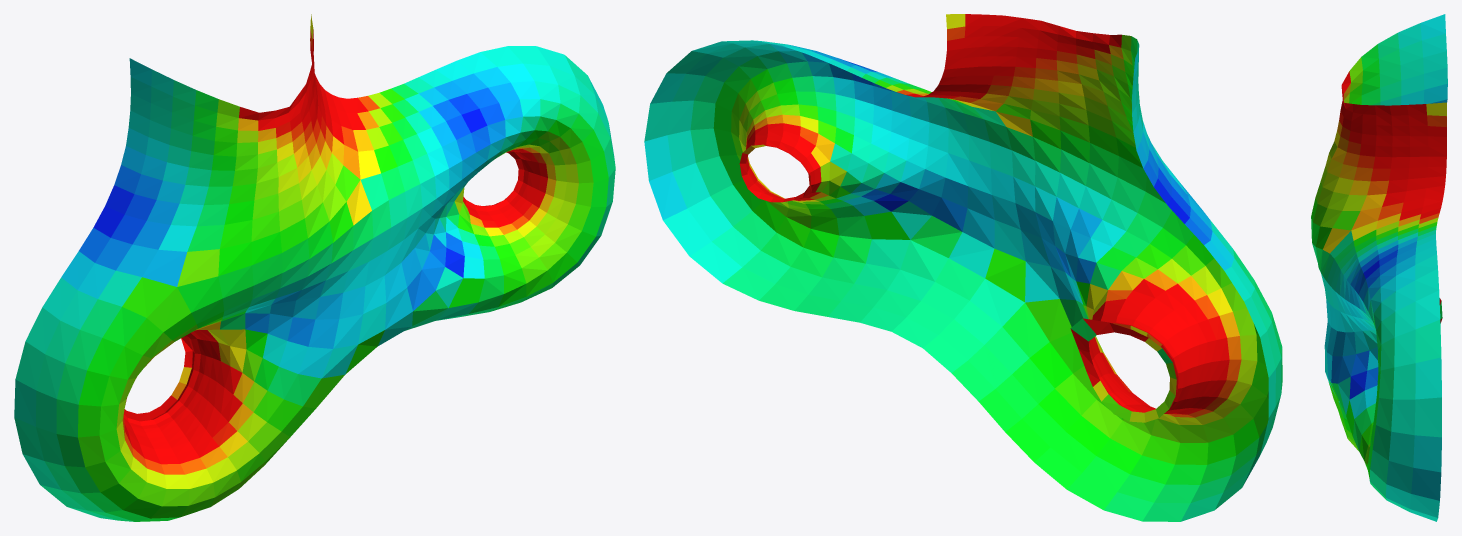
Rendered from aquadom_quad_opt_quality.obj.
3 views of the same model, side by side, from view 1: azimuth 30°, elevation 25°; view 2: azimuth 150°, elevation 25°; view 3: azimuth 270°, elevation 25° (orthographic). The views are drawn at different scales.
Size of the model in its own units: 68.53 by 49.61 by 13.79.
